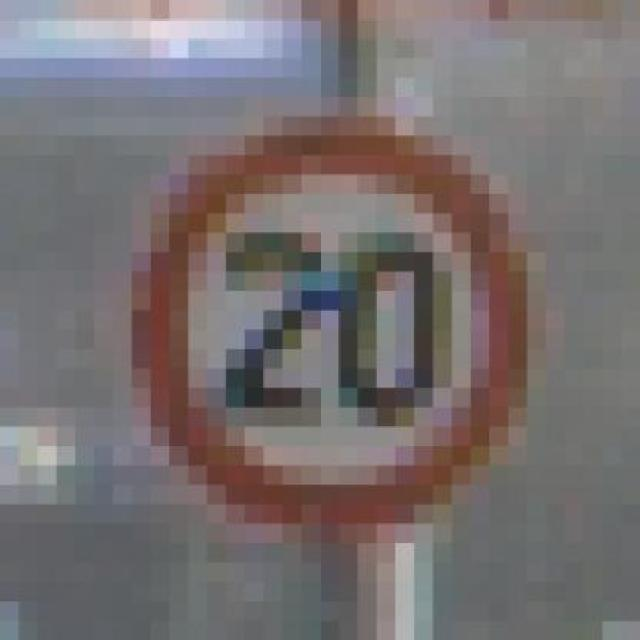forb_speed_over_20: (143, 124, 529, 522)
